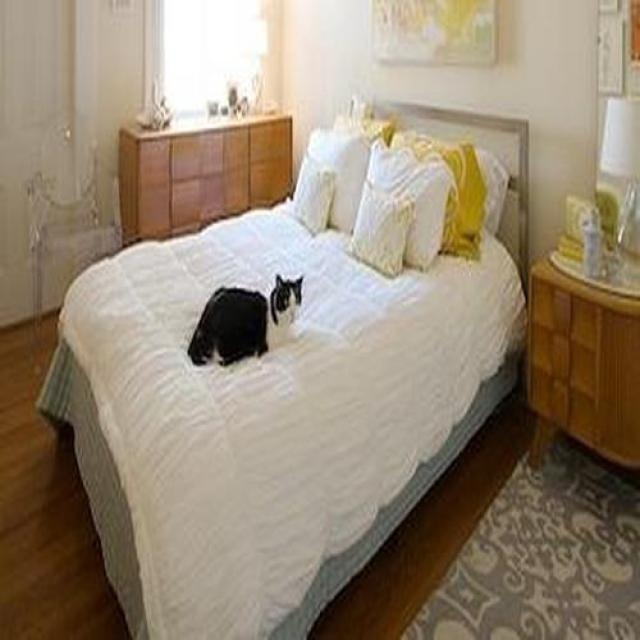bed: (35, 101, 531, 640)
